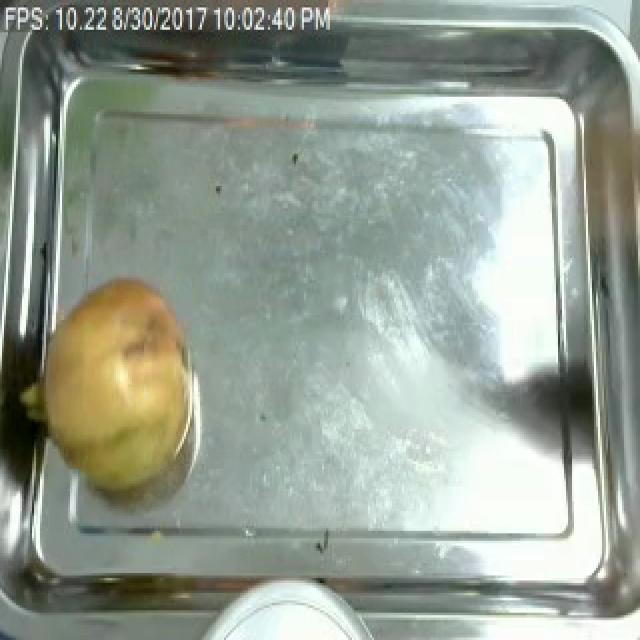fruit: (24, 258, 208, 513)
